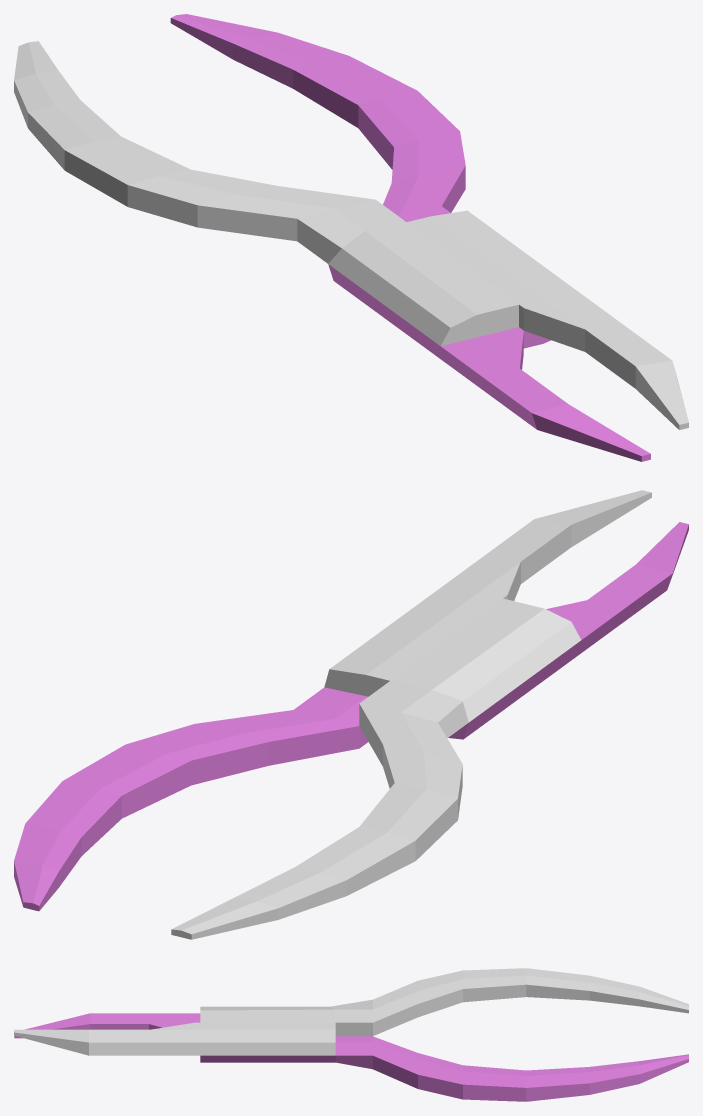
File: Pliers.fbx
The picture shows the model from 3 angles, top to bottom: view 1: azimuth 30°, elevation 25°; view 2: azimuth 150°, elevation 25°; view 3: azimuth 270°, elevation 25°; orthographic projection. The views are drawn at different scales.
Parts seen in each view (by area): view 1: Pliers; view 2: Pliers; view 3: Pliers.
Boxes of the visible parts, left/top/right/bottom form: Pliers: left=14, top=14, right=688, bottom=461; Pliers: left=14, top=490, right=688, bottom=939; Pliers: left=14, top=968, right=688, bottom=1101.
Bounding box in the file's own units: 6.04 × 0.875 × 16.62.
